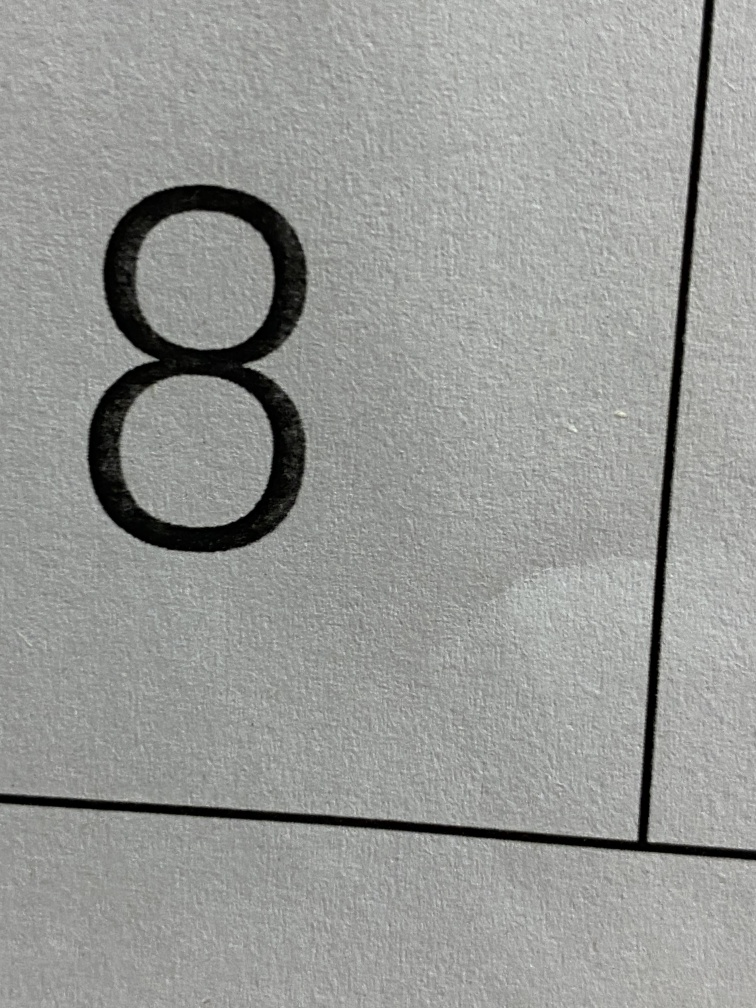eight: (34, 152, 389, 597)
